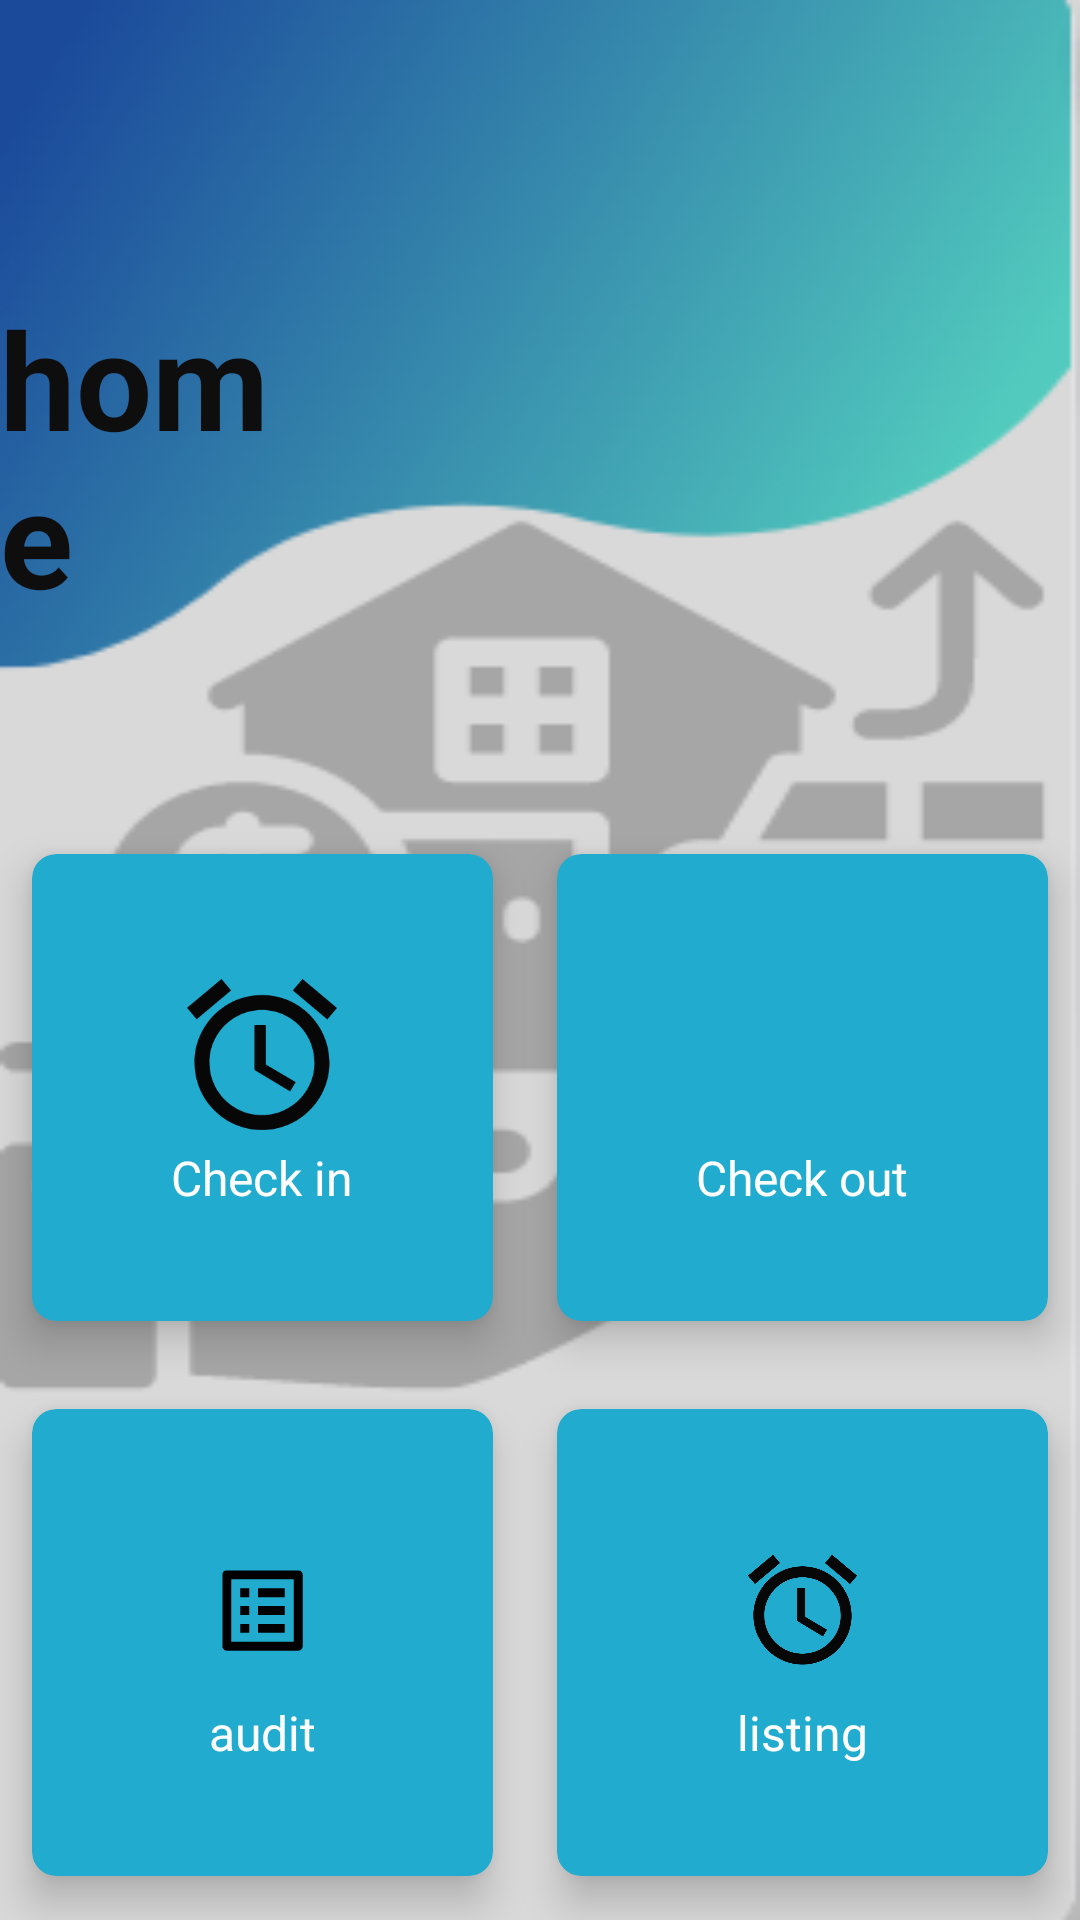

Locate icon controls on the screen. Image size 1080 × 1920, boxes as BBox(x1, y1, x2, y2).
alarm: BBox(187, 979, 337, 1130), BBox(748, 1555, 857, 1665)
